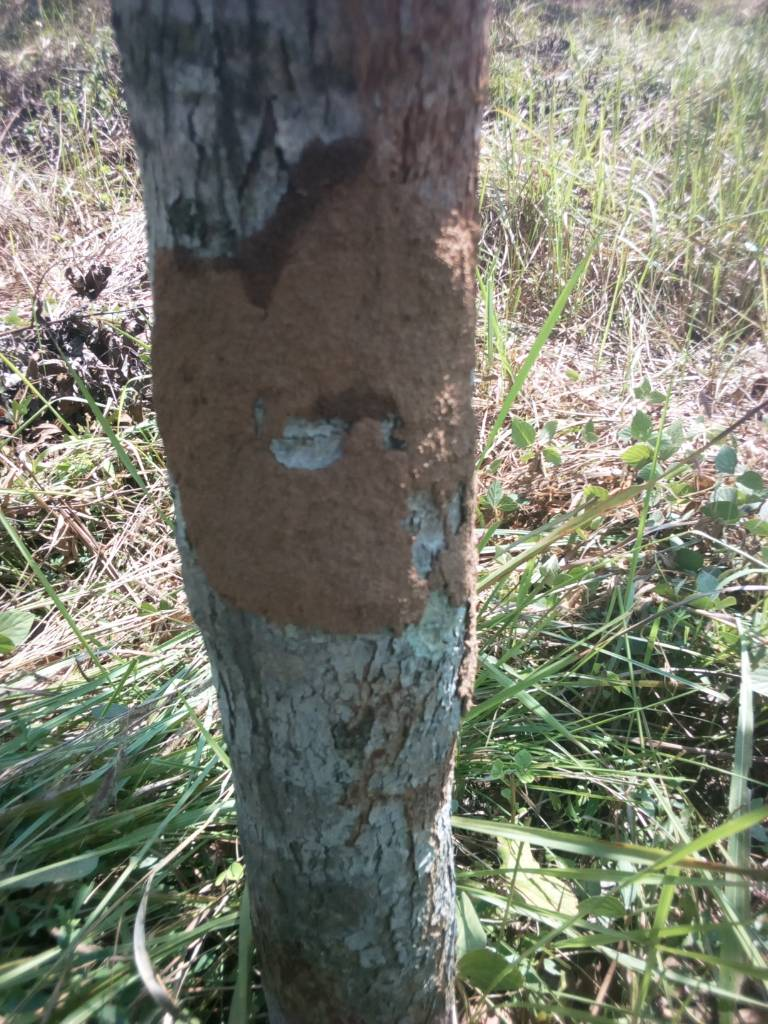Termites: (152, 241, 480, 639)
